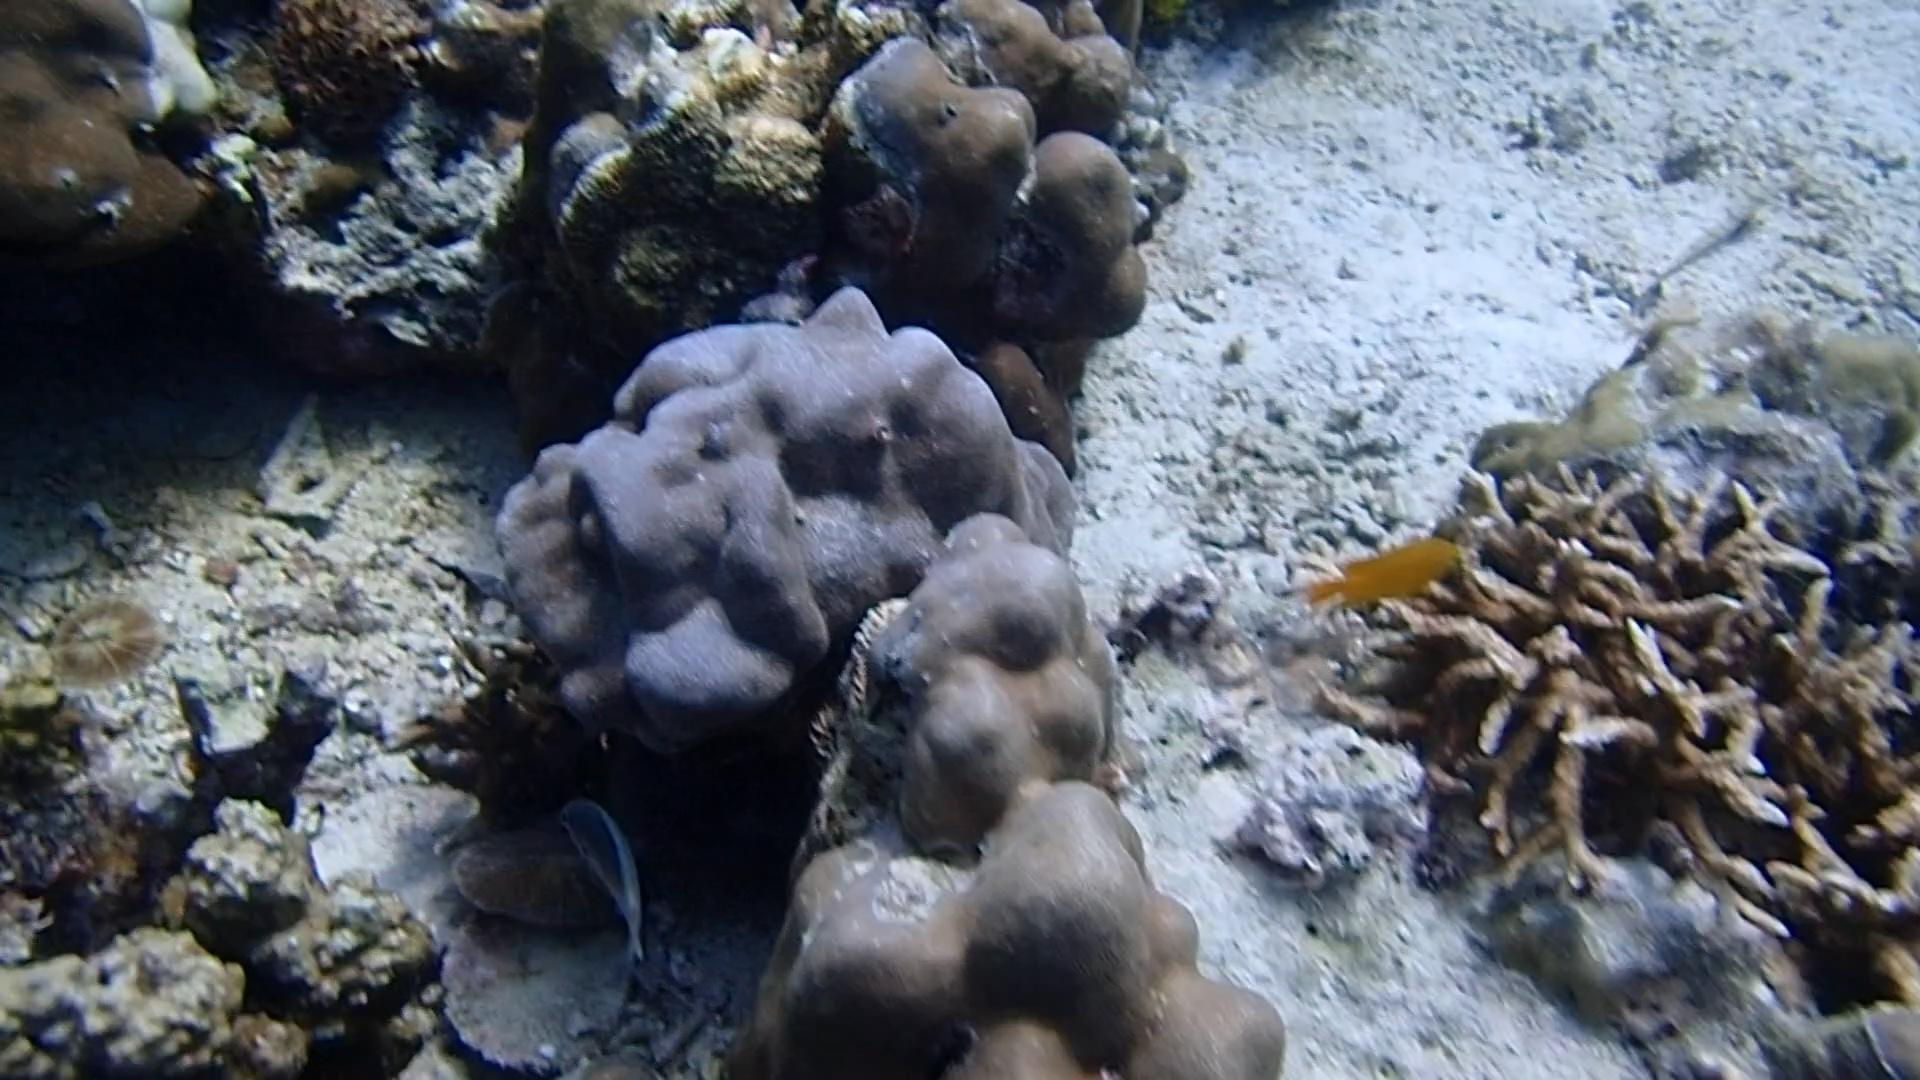Blue Fish Two: (546, 789, 674, 996)
Yellow Fish: (1296, 526, 1470, 621)
